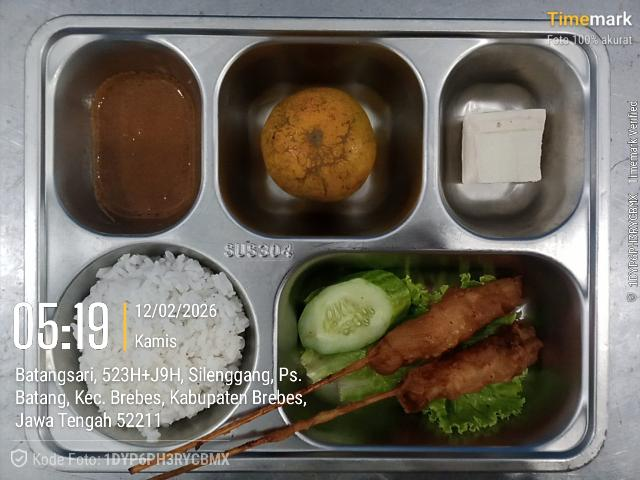ayam: (225, 323, 543, 456), (298, 277, 523, 395), (186, 402, 283, 447)
buah: (261, 87, 376, 202)
nasi: (78, 251, 249, 442)
sayur: (298, 270, 454, 383), (423, 367, 527, 433), (315, 360, 422, 404), (458, 311, 518, 348)
tahu: (462, 109, 546, 184)
